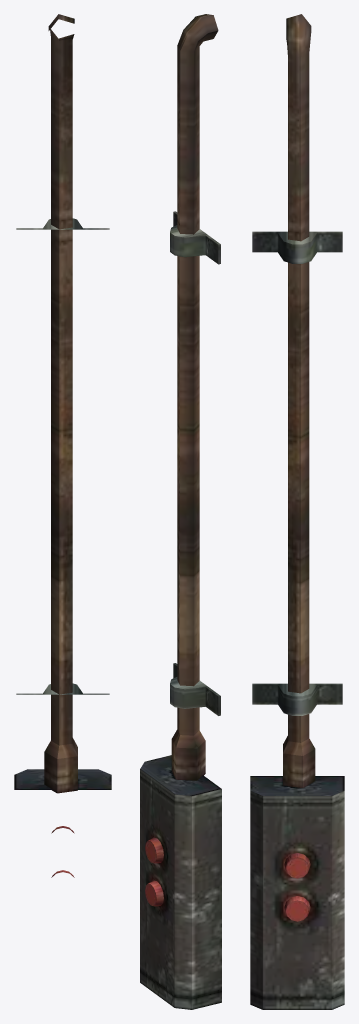
File: freightelevatorbutton.glb
The picture shows the model from 3 angles, left to right: view 1: azimuth 90°, elevation 25°; view 2: azimuth 210°, elevation 25°; view 3: azimuth 270°, elevation 25°; orthographic projection. The views are drawn at different scales.
Visible parts, largest first — view 1: 0_elevatorbutton_sheet; view 2: 0_elevatorbutton_sheet; view 3: 0_elevatorbutton_sheet.
Part boxes in pixels (left/top/right/bottom): 0_elevatorbutton_sheet: left=14, top=14, right=111, bottom=877; 0_elevatorbutton_sheet: left=140, top=14, right=221, bottom=1009; 0_elevatorbutton_sheet: left=250, top=14, right=344, bottom=1009.
Bounding box in the file's own units: 0.1509 × 2.3 × 0.2032.
Materials: 1 (1 with a texture image).
